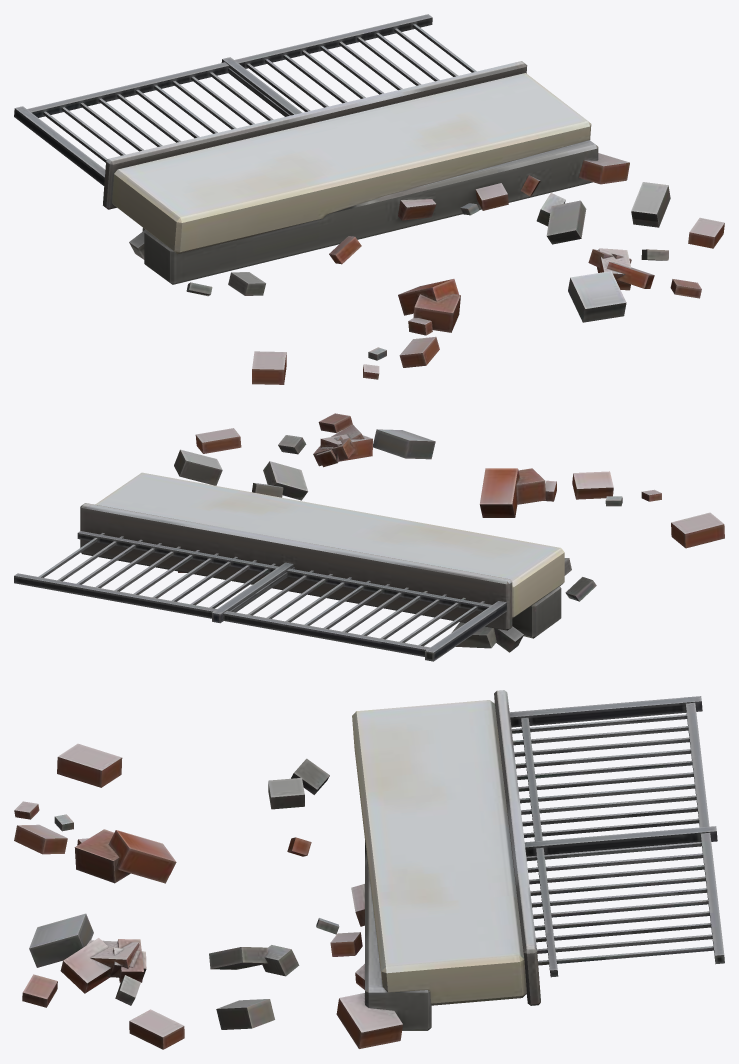
Rendered from bld_wall_garden_fallen.glb.
3 views of the same model, one above another, from view 1: azimuth 30°, elevation 25°; view 2: azimuth 150°, elevation 25°; view 3: azimuth 270°, elevation 25° (orthographic). The views are drawn at different scales.
Visible parts, largest first — view 1: bld_wall_garden_fallen; view 2: bld_wall_garden_fallen; view 3: bld_wall_garden_fallen.
Part boxes in pixels (x1,y1,x2,y2): bld_wall_garden_fallen: (14,14,724,384); bld_wall_garden_fallen: (14,413,724,661); bld_wall_garden_fallen: (14,690,724,1049).
Size of the model in its own units: 3.57 by 0.6066 by 3.72.
1 material, 1 textured.
